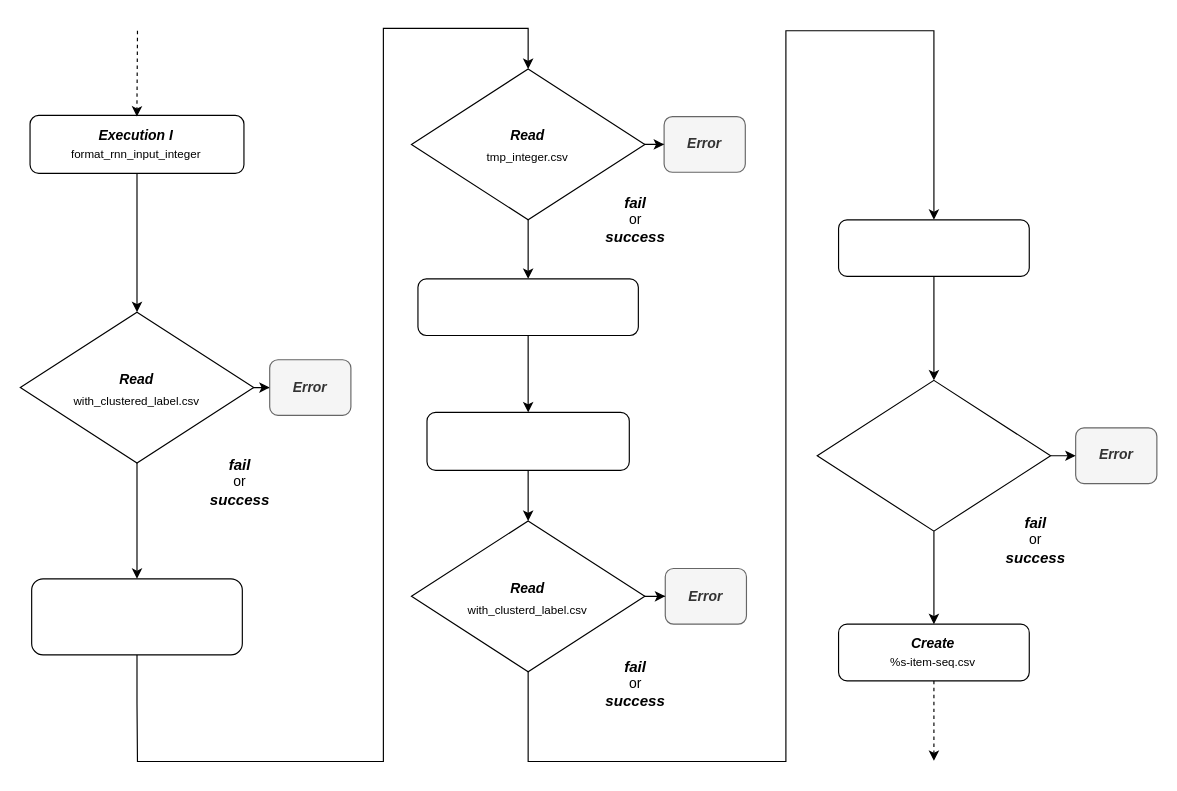
This 1177x791 diagram has some shape labels left out. Each missing label, with the box of its shape:
Create rnn_input_data_ integer.csv: (417, 278, 638, 335)
Create tmp_float.csv: (837, 219, 1029, 276)
Create with_cluster_label_ integer.csv/ tmp_integer.csv: (31, 578, 242, 655)
Execution II format_RNN_inpur_ float: (426, 411, 629, 470)
Read tmp_float.csv: (816, 379, 1051, 531)
